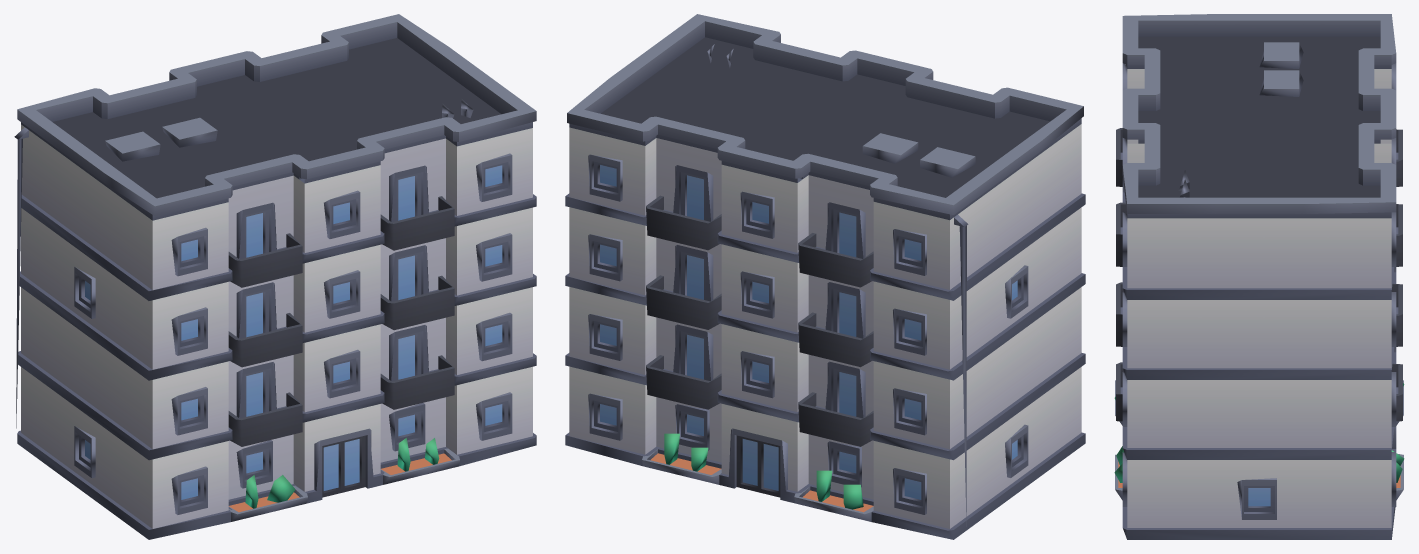
File: building-j.lod1.glb
3 renders of one model, left to right at view 1: azimuth 30°, elevation 25°; view 2: azimuth 150°, elevation 25°; view 3: azimuth 270°, elevation 25°, orthographic.
Visible parts, largest first — view 1: building-j; view 2: building-j; view 3: building-j.
Part boxes in pixels (<box>): building-j: <box>14,14,536,539</box>; building-j: <box>565,14,1085,539</box>; building-j: <box>1114,14,1404,539</box>.
Bounding box in the file's own units: 20.76 × 16.93 × 13.15.
Materials: 1 (1 with a texture image).
